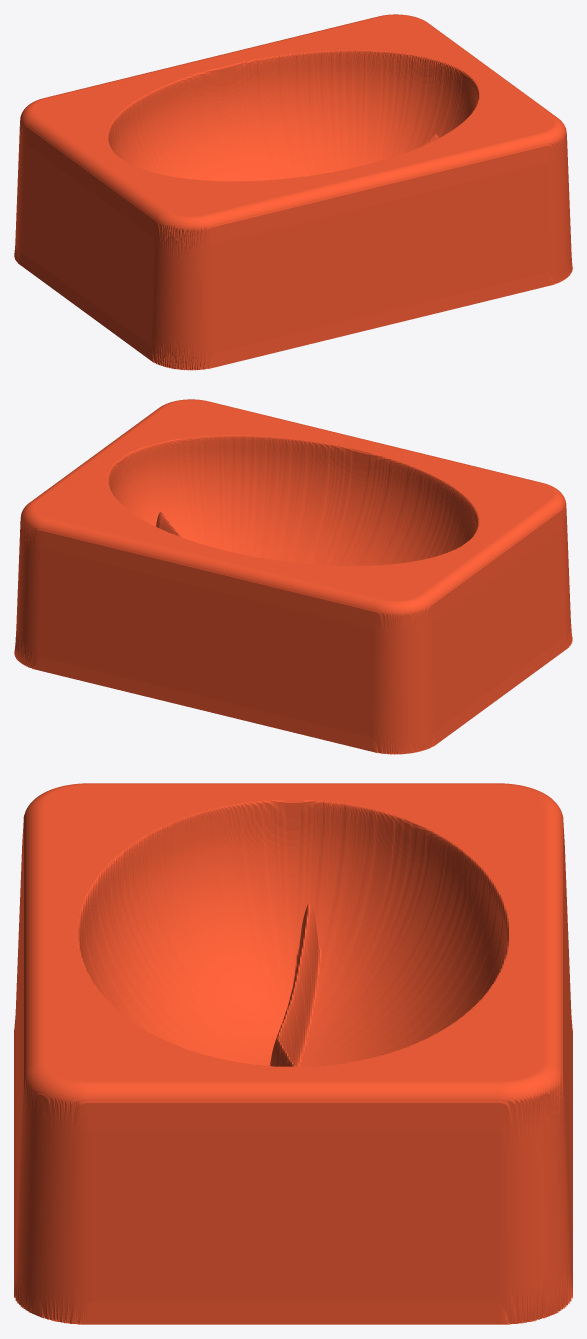
File: mold.glb
3 renders of one model, top to bottom at view 1: azimuth 30°, elevation 25°; view 2: azimuth 150°, elevation 25°; view 3: azimuth 270°, elevation 25°, orthographic. The views are drawn at different scales.
Parts seen in each view (by area): view 1: geometry_0; view 2: geometry_0; view 3: geometry_0.
Part boxes in pixels (x1,y1,x2,y2): geometry_0: (14,14,572,370); geometry_0: (14,399,572,754); geometry_0: (14,783,572,1324).
Bounding box in the file's own units: 0.0924 × 0.031 × 0.068.
